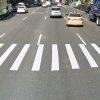Crosswalk: (5, 34, 100, 91)
